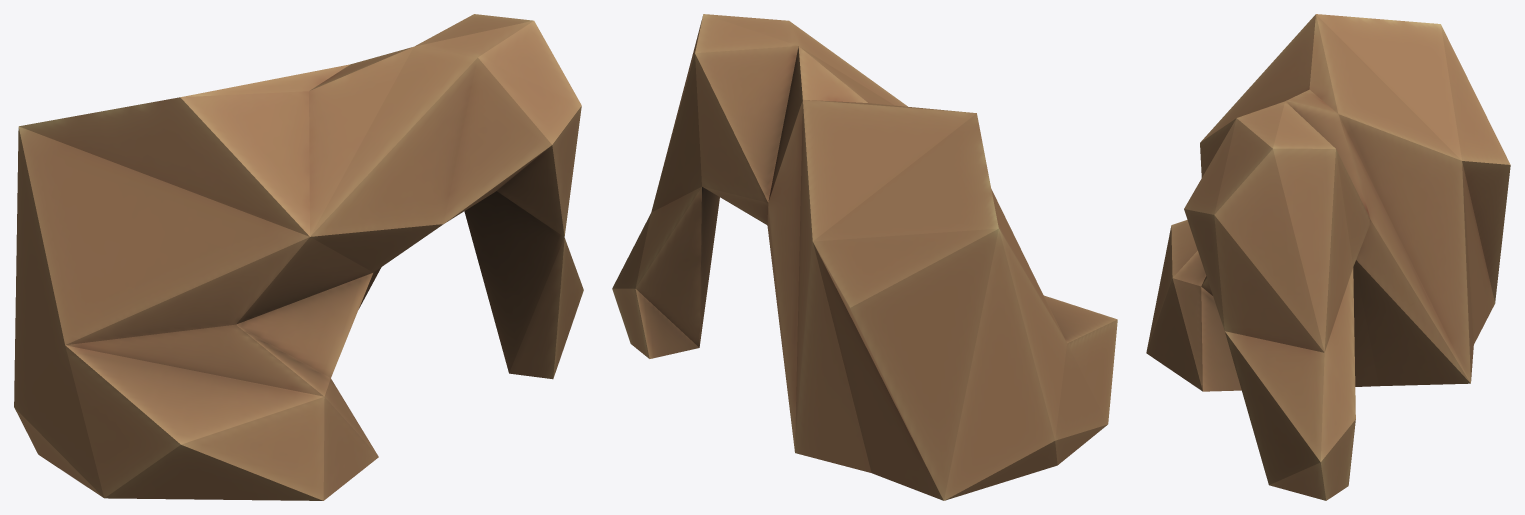
Rendered from Mountain rock_14.fbx.
3 views of the same model, side by side, from view 1: azimuth 30°, elevation 25°; view 2: azimuth 150°, elevation 25°; view 3: azimuth 270°, elevation 25° (orthographic). The views are drawn at different scales.
Visible parts, largest first — view 1: Mountain rock_14; view 2: Mountain rock_14; view 3: Mountain rock_14.
Boxes of the visible parts, x1=… form: Mountain rock_14: x1=14, y1=14, x2=583, y2=500; Mountain rock_14: x1=612, y1=14, x2=1117, y2=500; Mountain rock_14: x1=1146, y1=14, x2=1510, y2=500.
Bounding box in the file's own units: 291 × 188 × 189.
